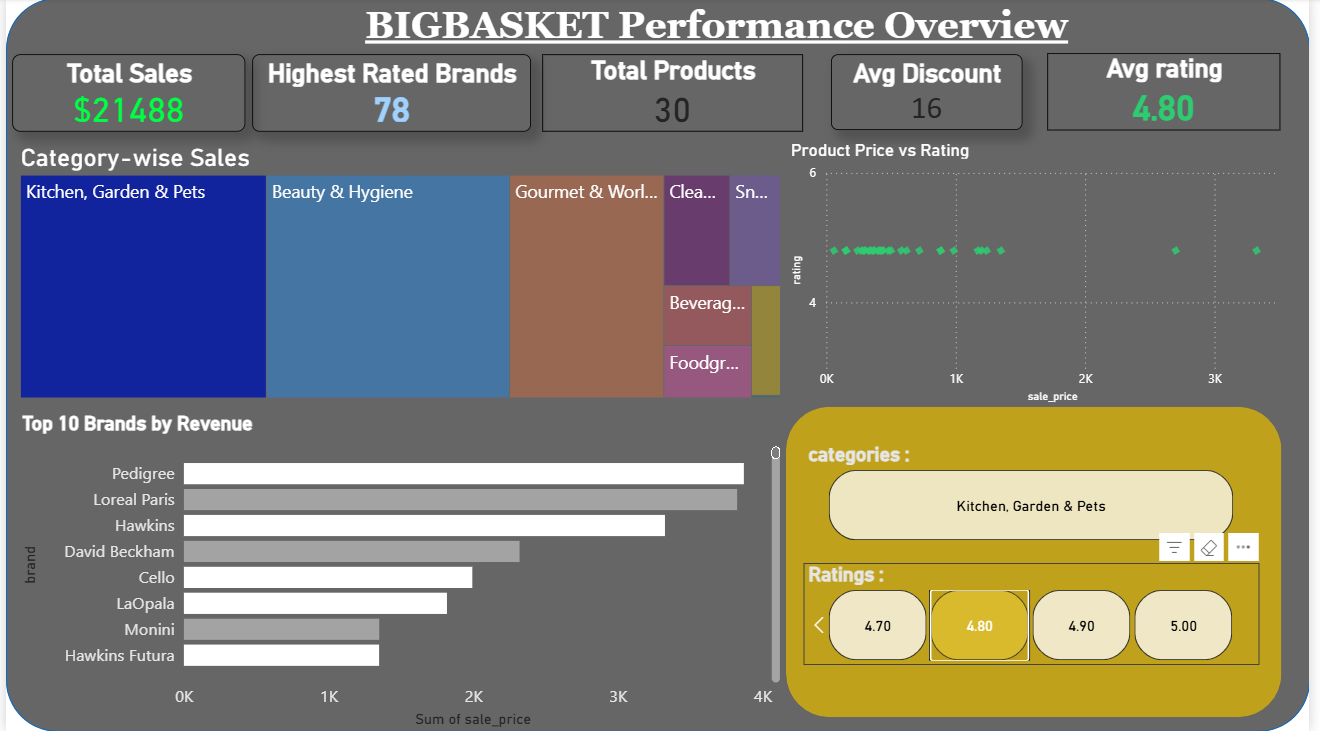

The dashboard page shown, as its layout file describes it:
{"tool":"powerbi","page":{"name":"Page 1","canvas":[1280,720],"ordinal":0},"visuals":[{"type":"shape","box":[0,0,1280,720.3],"z":0},{"type":"shape","box":[765,401.8,486.4,304.8],"z":1000},{"type":"textbox","box":[202.8,0,990.2,74.6],"z":2000},{"type":"card","title":"Total Sales","fields":{"Values":["BigBasket Products.Measure"]},"box":[6.2,54.7,228.9,75.9],"z":3000},{"type":"card","title":"Avg rating","fields":{"Values":["BigBasket Products.reating"]},"box":[1022.5,53.5,228.9,75.9],"z":4000},{"type":"card","title":"Highest Rated Brands","fields":{"Values":["BigBasket Products.highest_rated"]},"box":[241.3,54.7,273.7,75.9],"z":5000},{"type":"card","title":"Avg Discount","fields":{"Values":["BigBasket Products.avgdis"]},"box":[809.8,54.7,187.8,74.6],"z":6000},{"type":"card","title":"Total Products","fields":{"Values":["BigBasket Products.total product1"]},"box":[526.2,54.7,256.3,75.9],"z":7000},{"type":"treemap","title":"Category-wise Sales","fields":{"Group":["BigBasket Products.category"],"Values":["Sum(BigBasket Products.sale_price)"]},"box":[10,141.8,755.1,255],"z":8000},{"type":"clusteredBarChart","title":"Top 10 Brands by Revenue","fields":{"Category":["BigBasket Products.brand"],"Y":["Sum(BigBasket Products.sale_price)"]},"box":[11.2,405.5,753.8,314.7],"z":9000},{"type":"scatterChart","title":" Product Price vs Rating","fields":{"X":["BigBasket Products.sale_price"],"Y":["BigBasket Products.rating"]},"box":[765,138.1,496.3,263.7],"z":10000},{"type":"advancedSlicerVisual","title":"categories :","fields":{"Values":["BigBasket Products (2).category"]},"box":[782.5,436.6,447.8,100.8],"z":11000},{"type":"advancedSlicerVisual","title":"Ratings :","fields":{"Values":["BigBasket Products.rating"]},"box":[782.5,554.8,447.8,100.8],"z":12001}]}

Visuals, with their boxes in screenshot pixels (x1, y1, x2, y2), scaled from the page's 1280x720 canvas onto the 1320x731 screenshot:
shape: 0,0,1319,730
shape: 789,408,1291,717
textbox: 209,0,1230,76
"Total Sales" card: 6,56,242,133
"Avg rating" card: 1054,54,1291,131
"Highest Rated Brands" card: 249,56,531,133
"Avg Discount" card: 835,56,1029,131
"Total Products" card: 543,56,807,133
"Category-wise Sales" treemap: 10,144,789,403
"Top 10 Brands by Revenue" clusteredBarChart: 12,412,789,730
" Product Price vs Rating" scatterChart: 789,140,1301,408
"categories :" advancedSlicerVisual: 807,443,1269,546
"Ratings :" advancedSlicerVisual: 807,563,1269,666
